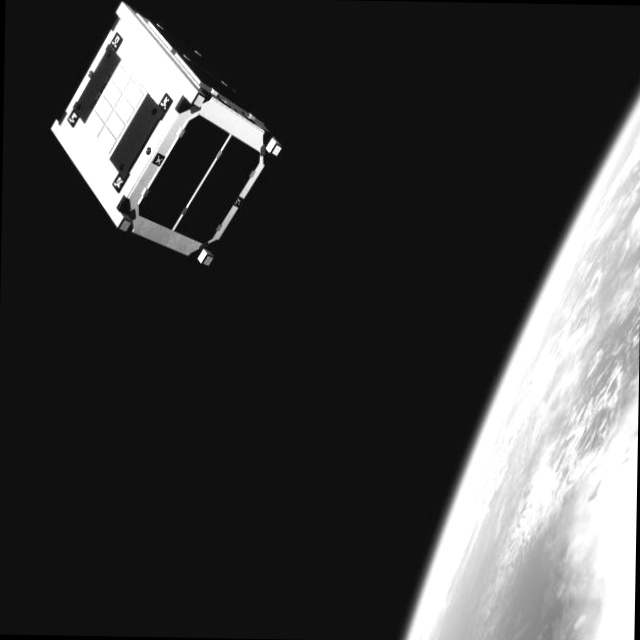satellite: (48, 0, 293, 270)
